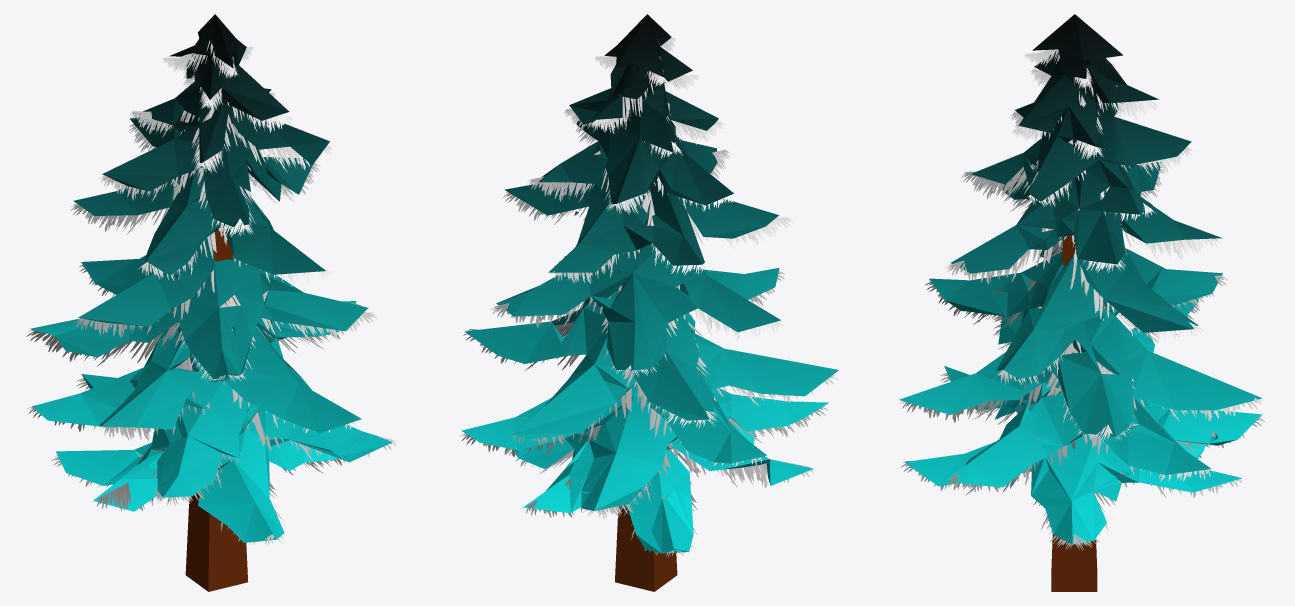
The model's file is PineTree02b.fbx.
The picture shows the model from 3 angles, left to right: view 1: azimuth 30°, elevation 25°; view 2: azimuth 150°, elevation 25°; view 3: azimuth 270°, elevation 25°; orthographic projection.
Parts seen in each view (by area): view 1: PineTree02b_LOD0; view 2: PineTree02b_LOD0; view 3: PineTree02b_LOD0.
Part boxes in pixels (<box>): PineTree02b_LOD0: <box>26,14,398,591</box>; PineTree02b_LOD0: <box>460,14,838,591</box>; PineTree02b_LOD0: <box>899,14,1264,591</box>.
Size of what is drawn, in the model's own units: 552 by 848 by 543.
